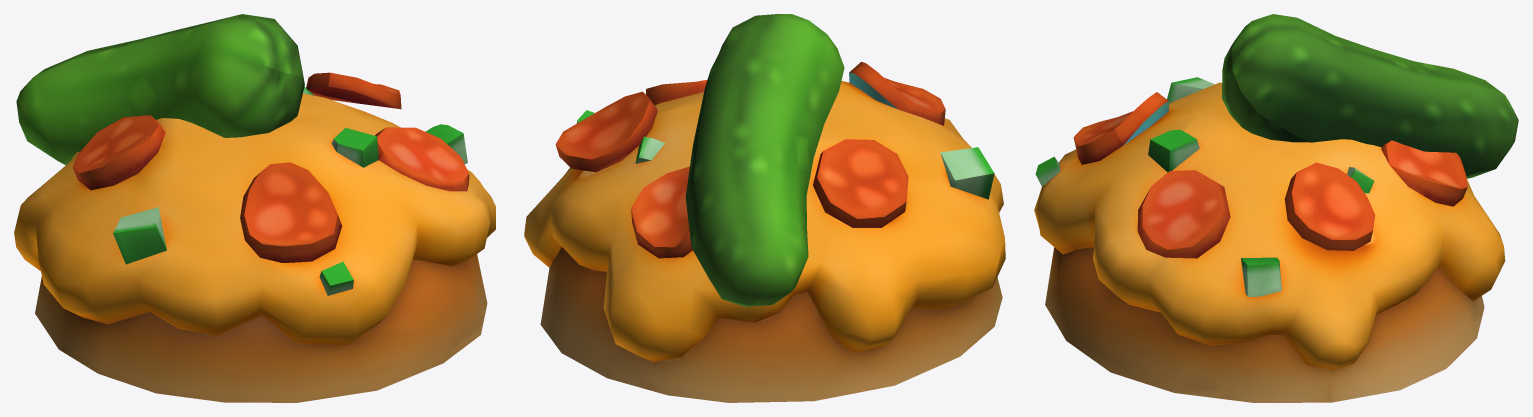
The model's file is cookbot_food_02.fbx.
The picture shows the model from 3 angles, left to right: view 1: azimuth 30°, elevation 25°; view 2: azimuth 150°, elevation 25°; view 3: azimuth 270°, elevation 25°; orthographic projection. The views are drawn at different scales.
Parts seen in each view (by area): view 1: bun_02; view 2: bun_02; view 3: bun_02.
Part boxes in pixels (x1,y1,x2,y2): bun_02: [14, 14, 495, 402]; bun_02: [524, 14, 1005, 402]; bun_02: [1034, 14, 1518, 402].
Size of the model in its own units: 1.03 by 0.7166 by 1.06.
